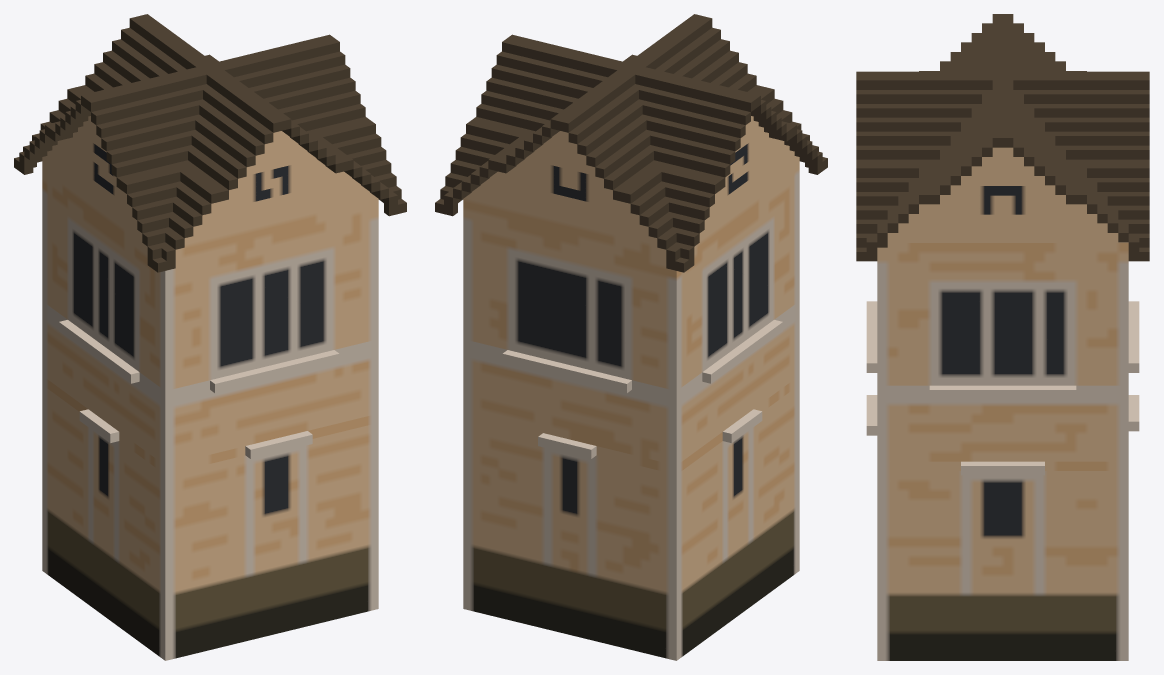
The model's file is building2.fbx.
3 views of the same model, side by side, from view 1: azimuth 30°, elevation 25°; view 2: azimuth 150°, elevation 25°; view 3: azimuth 270°, elevation 25° (orthographic). The views are drawn at different scales.
Visible parts, largest first — view 1: Matrix; view 2: Matrix; view 3: Matrix.
Part boxes in pixels (x1,y1,x2,y2): Matrix: [14, 14, 406, 660]; Matrix: [435, 14, 827, 660]; Matrix: [856, 14, 1149, 660].
Size of the model in its own units: 28 by 56 by 28.
Materials: 1 (1 with a texture image).
